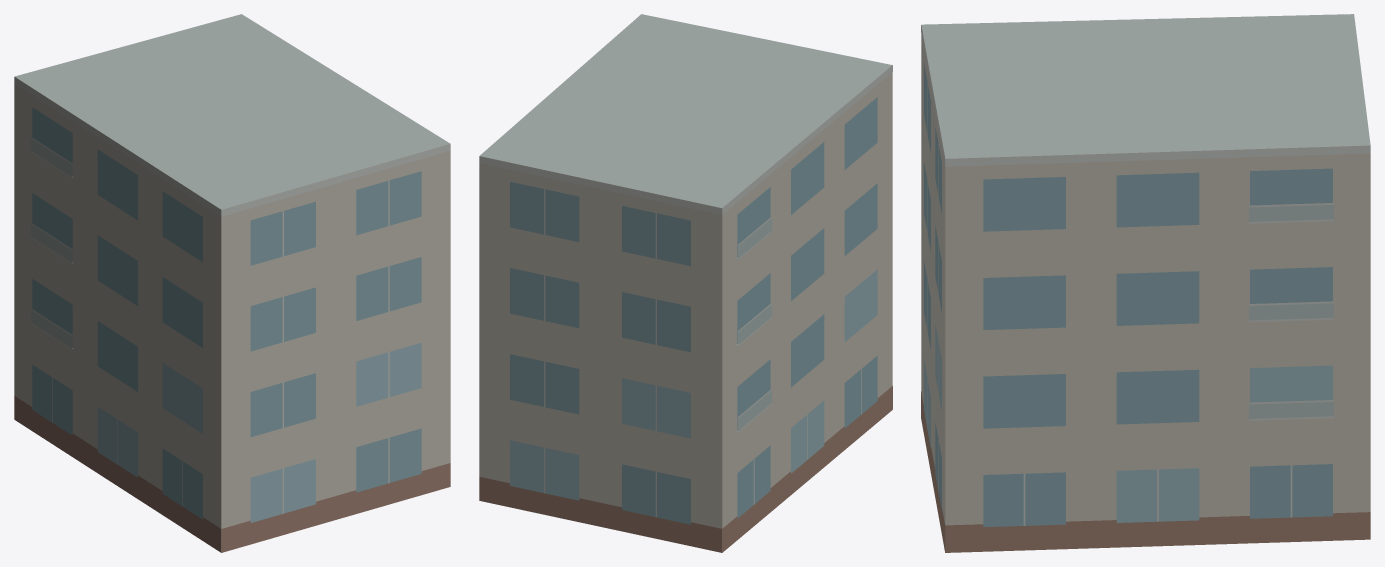
The model's file is survey-upis-32701705.glb.
The picture shows the model from 3 angles, left to right: view 1: azimuth 30°, elevation 25°; view 2: azimuth 150°, elevation 25°; view 3: azimuth 270°, elevation 25°; orthographic projection. The views are drawn at different scales.
Parts seen in each view (by area): view 1: survey-upis-32701705.tmp; view 2: survey-upis-32701705.tmp; view 3: survey-upis-32701705.tmp.
Part boxes in pixels (x1,y1,x2,y2): survey-upis-32701705.tmp: (14, 14, 450, 552); survey-upis-32701705.tmp: (479, 14, 892, 552); survey-upis-32701705.tmp: (921, 14, 1370, 552).
Bounding box in the file's own units: 9.63 × 12.2 × 12.62.
